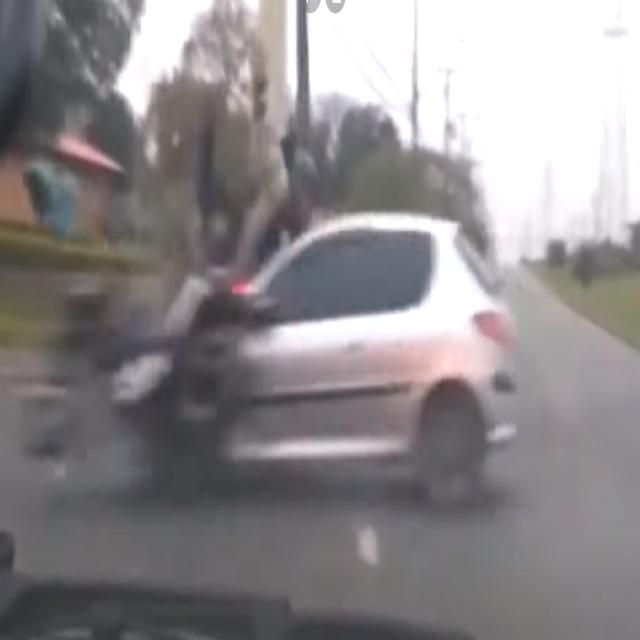accident: (24, 214, 512, 508)
